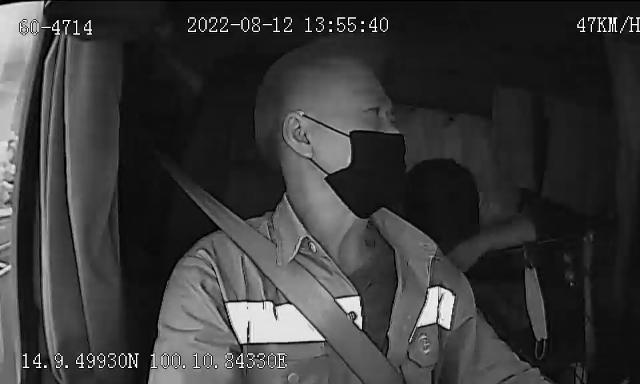Seatbelt: (168, 164, 404, 384)
